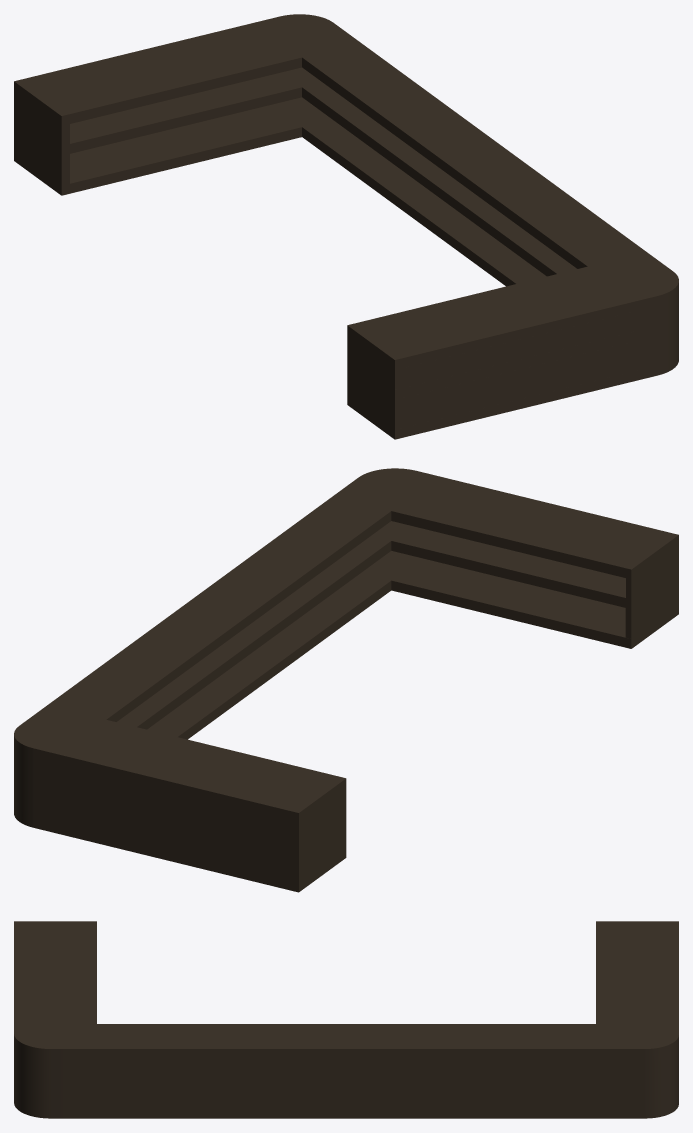
File: Bar.fbx
3 views of the same model, one above another, from view 1: azimuth 30°, elevation 25°; view 2: azimuth 150°, elevation 25°; view 3: azimuth 270°, elevation 25° (orthographic). The views are drawn at different scales.
Parts seen in each view (by area): view 1: pCube2; view 2: pCube2; view 3: pCube2.
Part boxes in pixels (x1=…): pCube2: x1=14, y1=14, x2=678, y2=439; pCube2: x1=14, y1=468, x2=678, y2=892; pCube2: x1=14, y1=921, x2=678, y2=1118.
Bounding box in the file's own units: 35.46 × 9 × 78.05.
